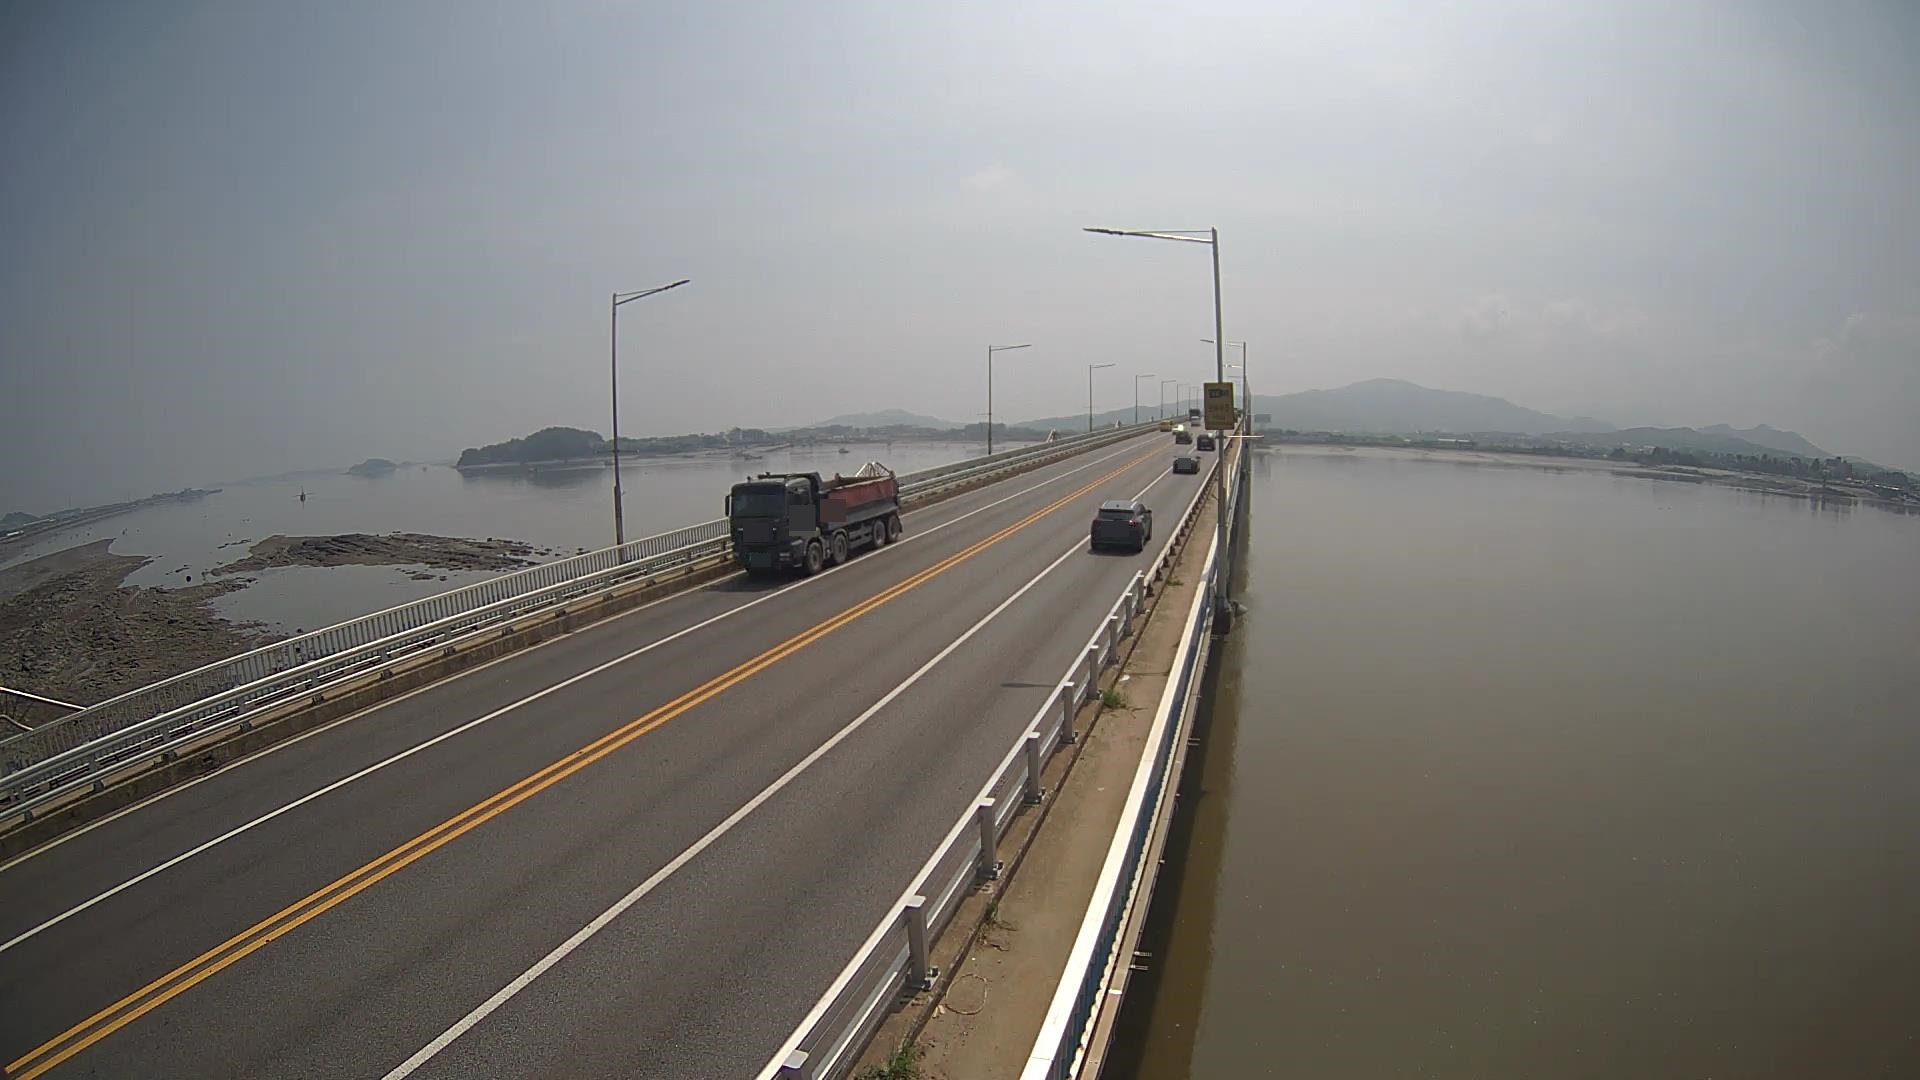정상차량: (724, 469, 903, 574)
